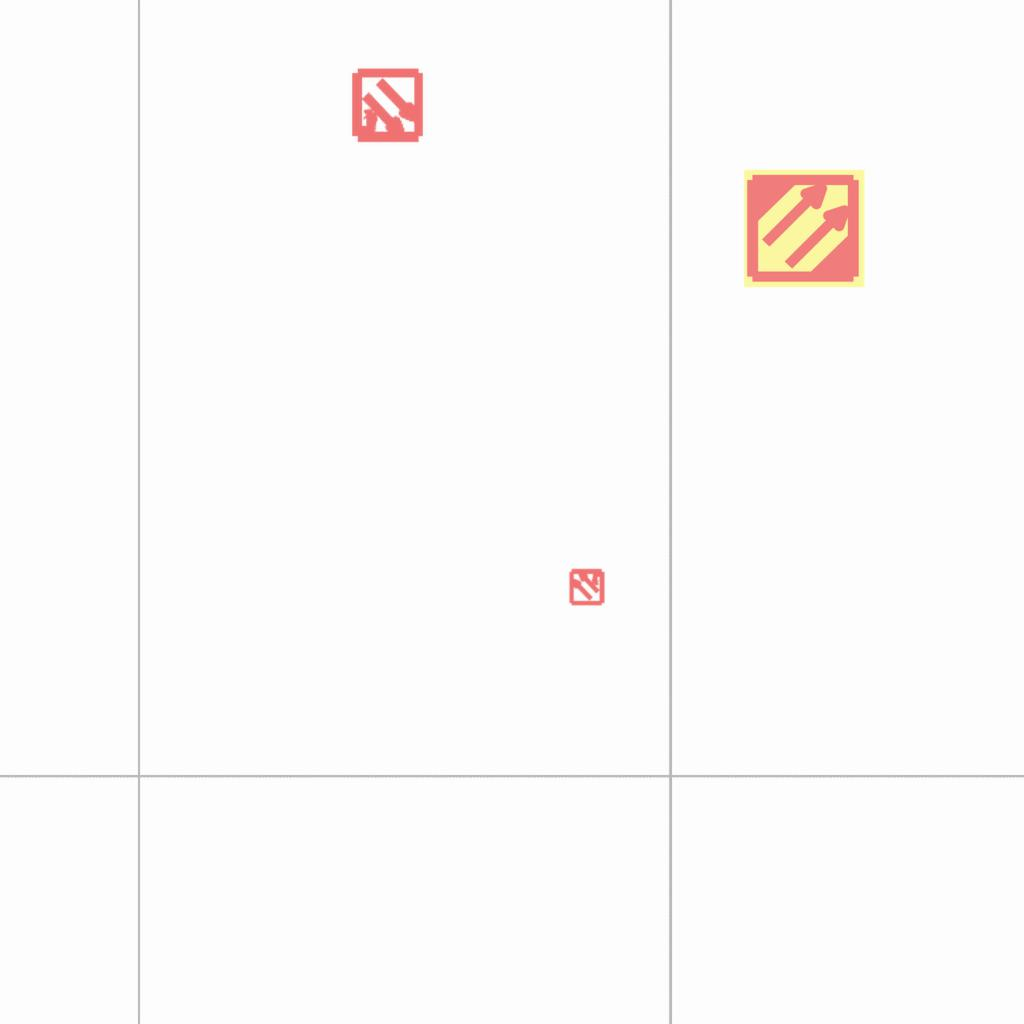ASR_Ansaugrauchmelder: (742, 166, 867, 291)
OT_Multisensormelder_(Kombination_RMO_WMD): (331, 51, 444, 164), (559, 558, 615, 614)
